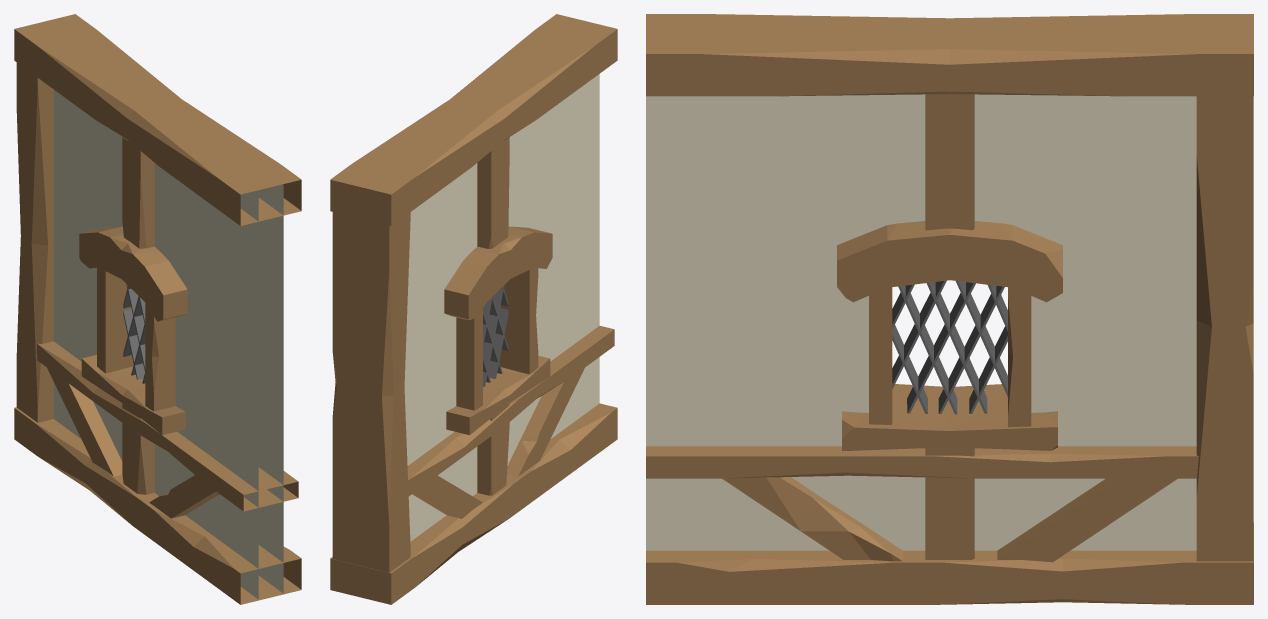
The model's file is SFV_Window2_Wooden_M_003.fbx.
3 views of the same model, side by side, from view 1: azimuth 30°, elevation 25°; view 2: azimuth 150°, elevation 25°; view 3: azimuth 270°, elevation 25° (orthographic). The views are drawn at different scales.
Visible parts, largest first — view 1: SFV_Window2_Wooden_M_003; view 2: SFV_Window2_Wooden_M_003; view 3: SFV_Window2_Wooden_M_003.
Boxes of the visible parts, left/top/right/bottom form: SFV_Window2_Wooden_M_003: left=14, top=14, right=301, bottom=604; SFV_Window2_Wooden_M_003: left=330, top=14, right=617, bottom=604; SFV_Window2_Wooden_M_003: left=646, top=14, right=1253, bottom=604.
Bounding box in the file's own units: 56.2 × 300 × 300.
